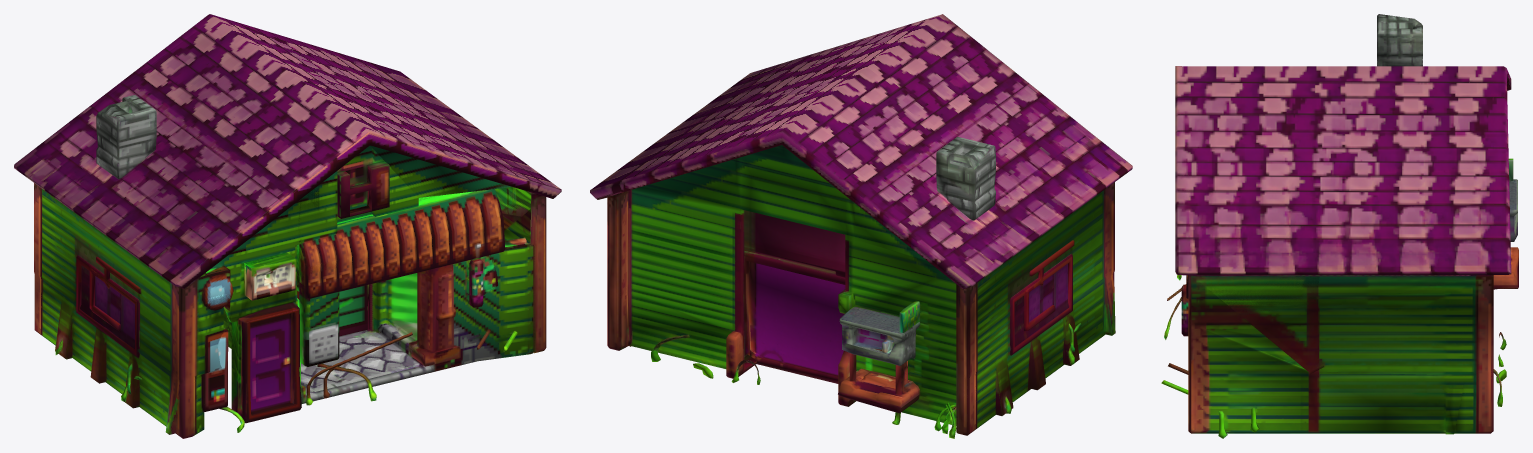
Rendered from university.glb.
The picture shows the model from 3 angles, left to right: view 1: azimuth 30°, elevation 25°; view 2: azimuth 150°, elevation 25°; view 3: azimuth 270°, elevation 25°; orthographic projection. The views are drawn at different scales.
Size of the model in its own units: 1.91 by 1.28 by 1.49.
Materials: 1 (1 with a texture image).
